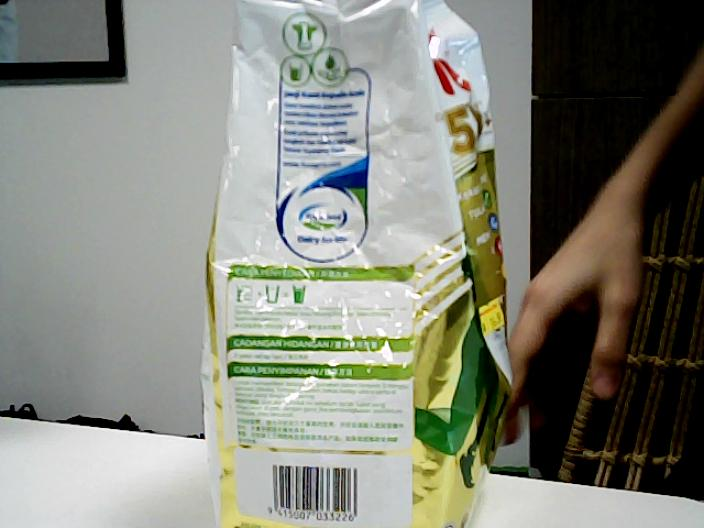Adult_Milk_1000-1999g_Halal_NonHealthy: (202, 1, 511, 528)
